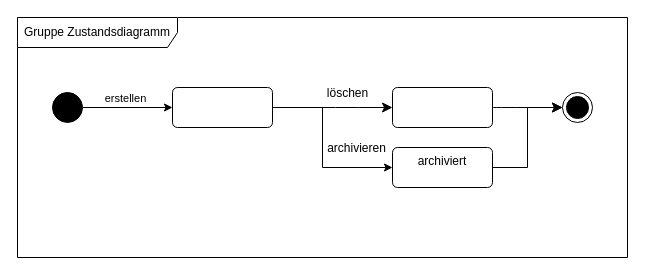
Image size: 645x275. Some labels were removed from this diagram. The box of each missing label's shape, as (x1, y1, x2, y2) in pixels:
erstellt: (172, 86, 272, 128)
gelöscht: (392, 86, 492, 128)
